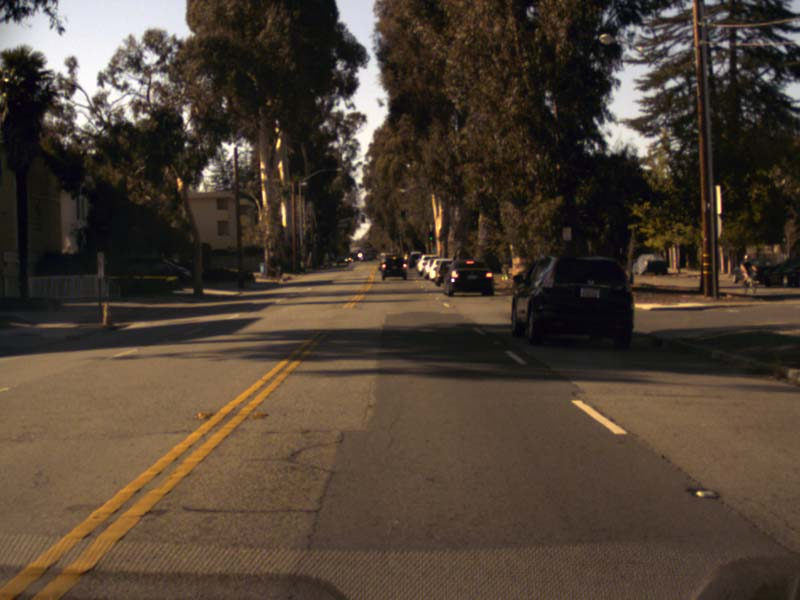Green: (400, 210, 405, 221), (428, 232, 432, 240)
